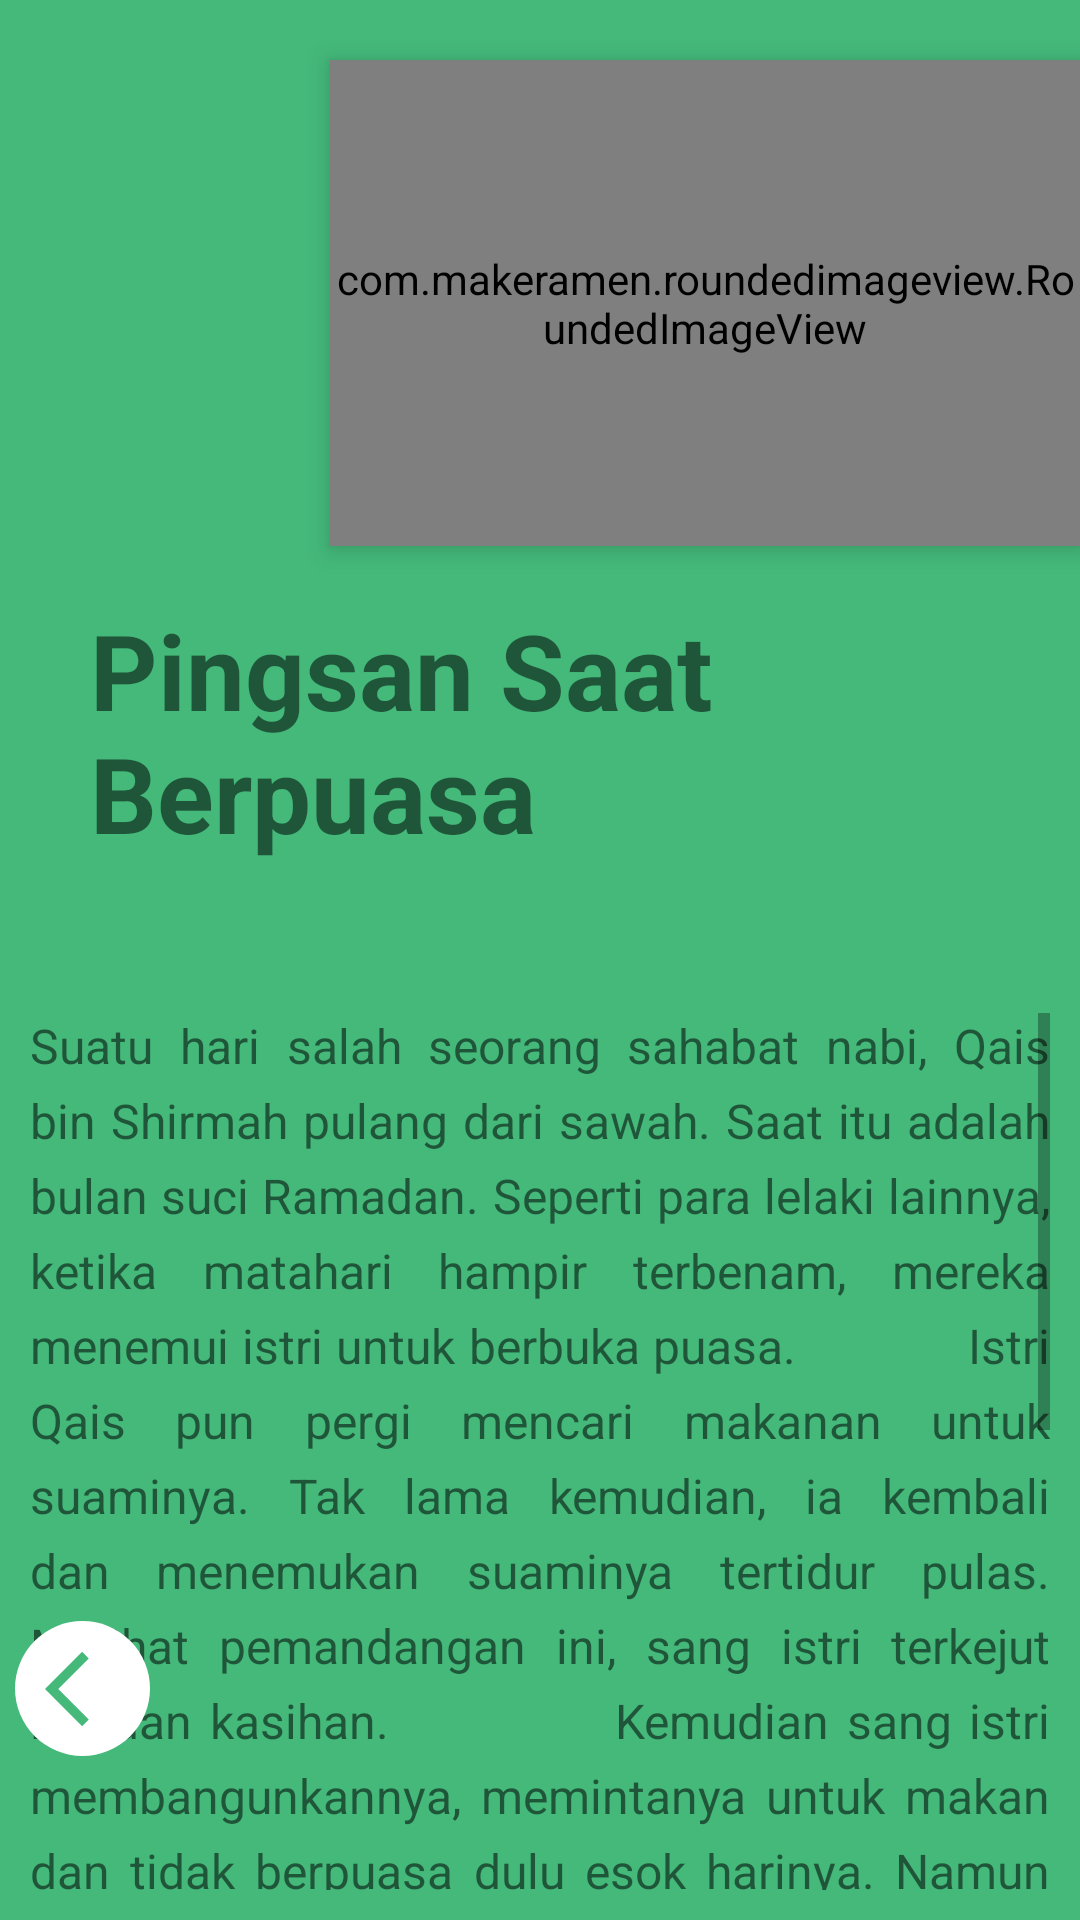

Where to tap for icons on this 1080px x 1920px app screen, as (x=x, y=y):
arrow back: (x=82, y=1688)
